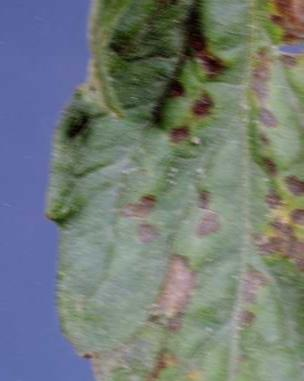Tomato leaf bacterial spot: (36, 0, 304, 381)
